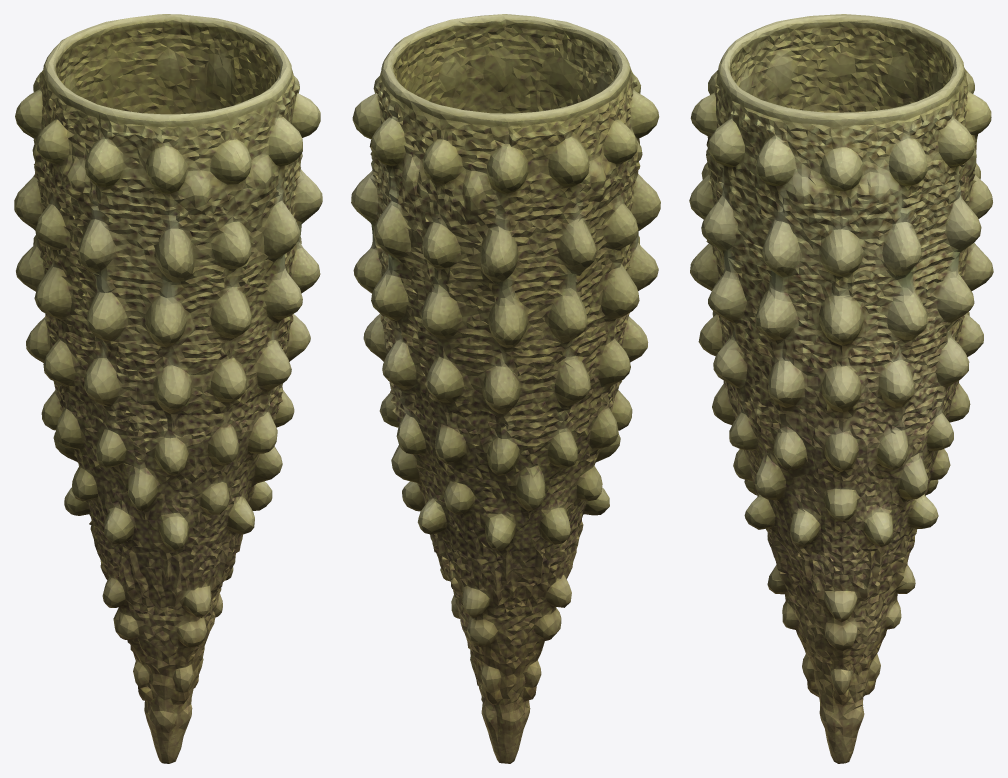
3 renders of one model, left to right at view 1: azimuth 30°, elevation 25°; view 2: azimuth 150°, elevation 25°; view 3: azimuth 270°, elevation 25°, orthographic.
Visible parts, largest first — view 1: world; view 2: world; view 3: world.
Part boxes in pixels (bbox=[...]): world: bbox=[14, 14, 322, 763]; world: bbox=[351, 14, 660, 763]; world: bbox=[689, 14, 993, 763].
Size of the model in its own units: 0.0869 by 0.22 by 0.0871.
1 material, 1 textured.
